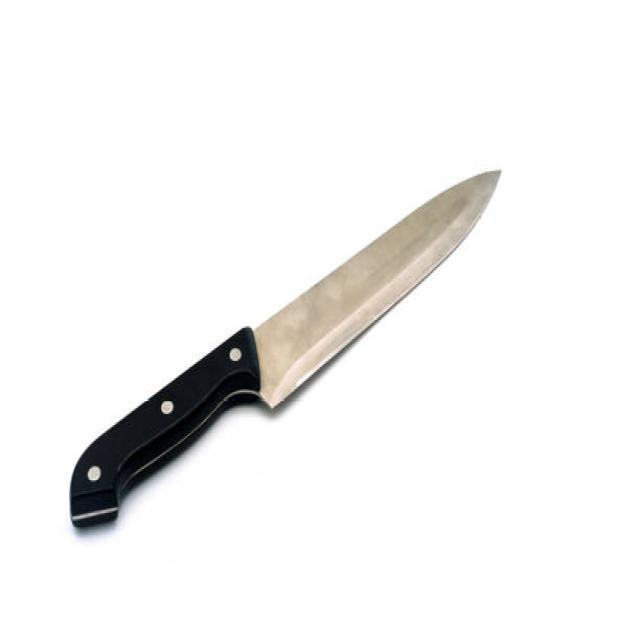knife: (70, 166, 507, 536)
